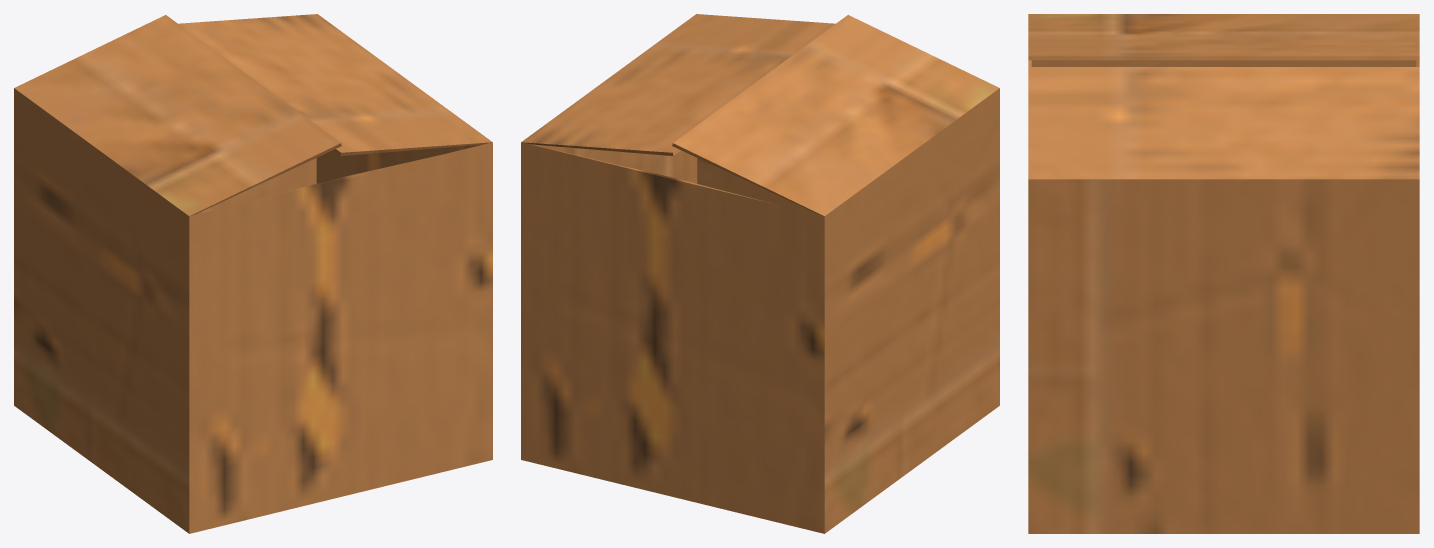
Rendered from SM_PROP_CARBOARD_BOX_02.fbx.
The picture shows the model from 3 angles, left to right: view 1: azimuth 30°, elevation 25°; view 2: azimuth 150°, elevation 25°; view 3: azimuth 270°, elevation 25°; orthographic projection. The views are drawn at different scales.
Parts seen in each view (by area): view 1: SM_PROP_CARBOARD_BOX_02; view 2: SM_PROP_CARBOARD_BOX_02; view 3: SM_PROP_CARBOARD_BOX_02.
Boxes of the visible parts, x1,y1,x2,y2 form: SM_PROP_CARBOARD_BOX_02: (14, 14, 492, 533); SM_PROP_CARBOARD_BOX_02: (521, 14, 999, 533); SM_PROP_CARBOARD_BOX_02: (1028, 14, 1419, 533).
Size of the model in its own units: 0.48 by 0.5348 by 0.48.
